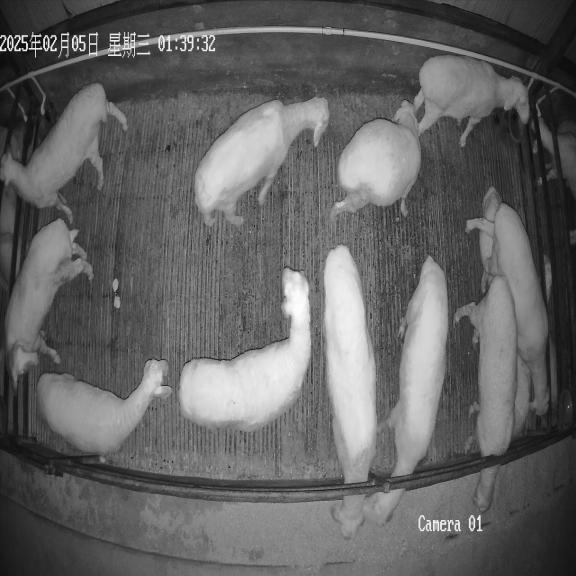eating: (362, 257, 448, 525), (324, 245, 377, 539), (454, 277, 517, 512)
lying: (475, 186, 502, 293), (513, 350, 531, 437)
stand: (179, 268, 311, 431), (194, 97, 329, 226), (467, 203, 549, 415), (0, 83, 127, 216), (5, 218, 93, 389), (36, 359, 171, 462), (395, 55, 529, 147), (330, 100, 421, 221)
